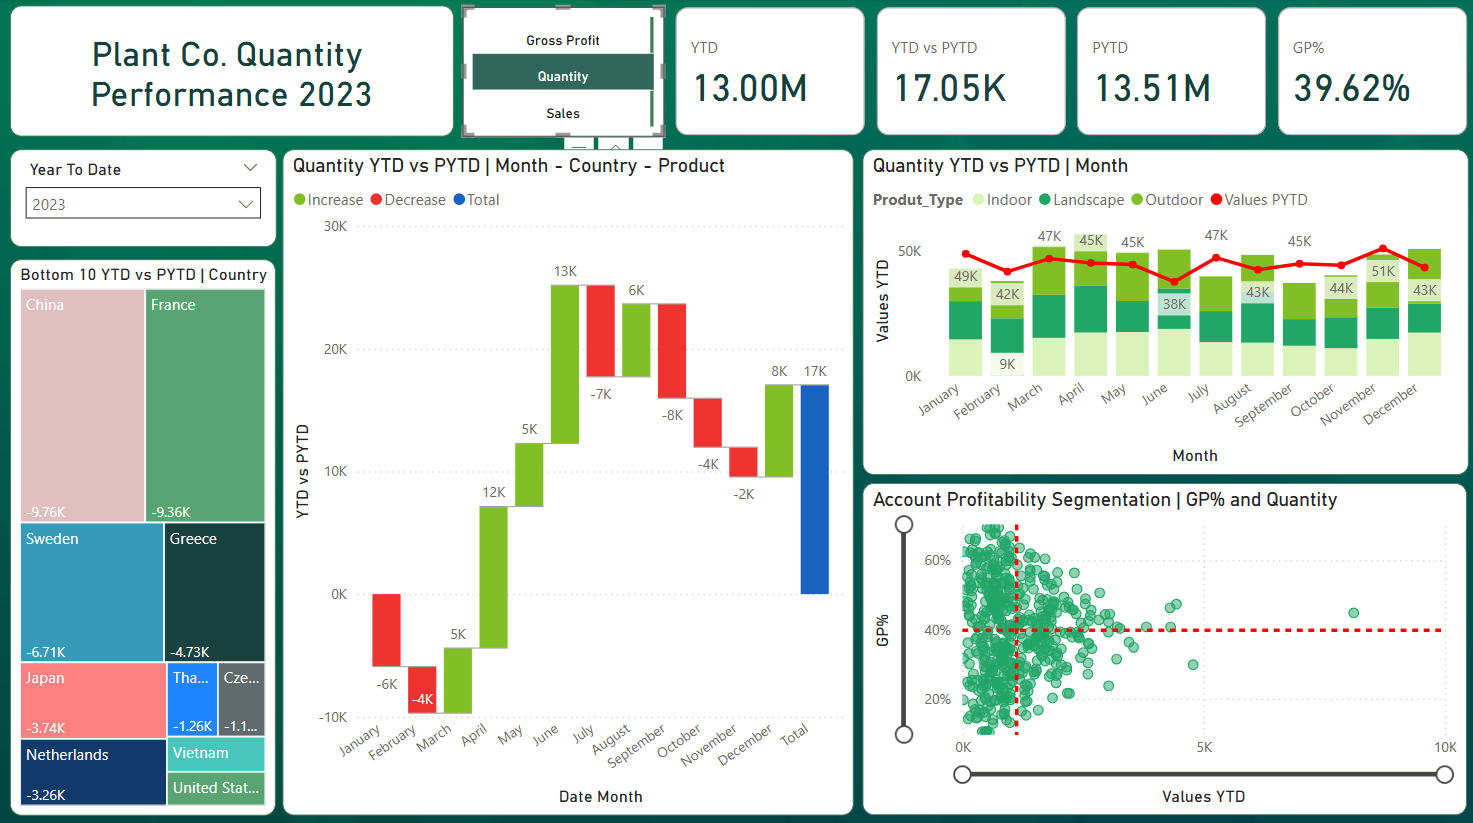

The page's visual inventory and layout, read from the dashboard file:
{"tool":"powerbi","page":{"name":"Page 1","canvas":[1280,720],"ordinal":0},"visuals":[{"type":"advancedSlicerVisual","fields":{"Values":["slc_values.Values"]},"box":[400.7,7.1,175,113.6],"z":0},{"type":"slicer","fields":{"Values":["Dim_Date.Date.Variation.Date Hierarchy.Year"]},"box":[8.3,131,231.1,84.6],"z":1000},{"type":"treemap","title":"Bottom 10 YTD vs PYTD | Country","fields":{"Group":["Dim_Accounts.Country"],"Values":["_Measures.YTD vs PYTD"]},"box":[8.9,226.1,230.6,482.8],"z":2000},{"type":"waterfallChart","fields":{"Y":["_Measures.YTD vs PYTD"],"Category":["Dim_Date.Date.Variation.Date Hierarchy.Month","Dim_Accounts.Country","Dim_Product.Produt_Type","Dim_Product.Product_Name"]},"box":[245.4,131,495.6,577.8],"z":3000},{"type":"lineStackedColumnComboChart","fields":{"Y":["_Measures.Switch_YTD"],"Y2":["_Measures.Switch_PYTD"],"Category":["Dim_Date.Date.Variation.Date Hierarchy.Month"],"Series":["Dim_Product.Produt_Type"]},"box":[747.2,131.1,525.6,282.2],"z":4000},{"type":"scatterChart","fields":{"Y":["_Measures.GP%"],"X":["_Measures.Switch_YTD"],"Category":["Dim_Accounts.Account"]},"box":[748.1,420.5,524.2,288.3],"z":5000},{"type":"card","fields":{"Values":["_Measures._report title"]},"box":[8.8,6.2,385,113.8],"z":6000},{"type":"cardVisual","fields":{"Data":["_Measures.YearToDate_Sales","_Measures.YTD vs PYTD","_Measures.PYTD_Sales","_Measures.GP%"]},"box":[580.9,3.6,699.1,121.8],"z":7000}]}

Visuals, with their boxes in screenshot pixels (x1, y1, x2, y2), scaled from the page's 1280x720 canvas onto the 1473x823 screenshot:
advancedSlicerVisual - slc_values.Values: [461, 8, 663, 138]
slicer - Dim_Date.Date.Variation.Date Hierarchy.Year: [10, 150, 275, 246]
"Bottom 10 YTD vs PYTD | Country" treemap: [10, 258, 276, 810]
waterfallChart - _Measures.YTD vs PYTD x Dim_Date.Date.Variation.Date Hierarchy.Month: [282, 150, 853, 810]
lineStackedColumnComboChart - _Measures.Switch_YTD x _Measures.Switch_PYTD: [860, 150, 1465, 472]
scatterChart - _Measures.GP% x _Measures.Switch_YTD: [861, 481, 1464, 810]
card - _Measures._report title: [10, 7, 453, 137]
cardVisual - _Measures.YearToDate_Sales x _Measures.YTD vs PYTD: [668, 4, 1472, 143]
